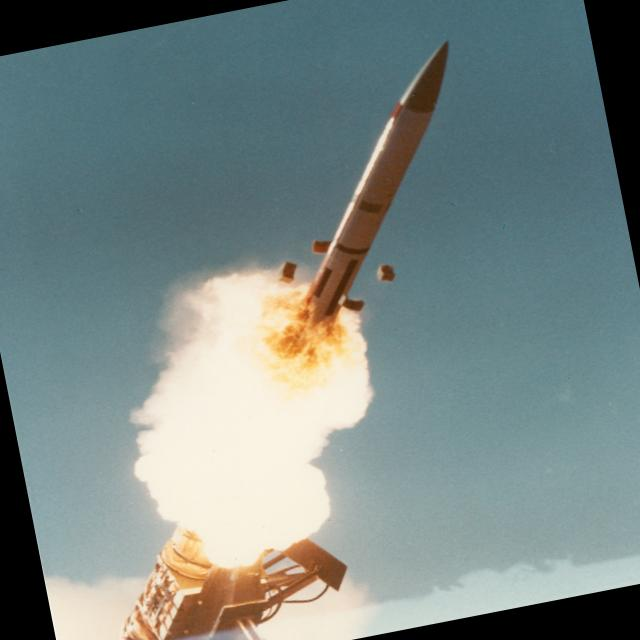rocket: (127, 32, 544, 524)
